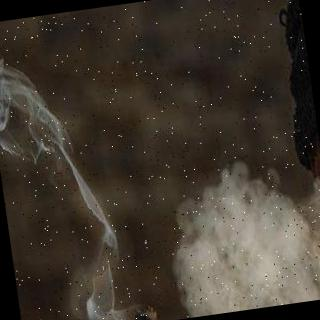smoke: (0, 52, 131, 320), (159, 163, 320, 319)
